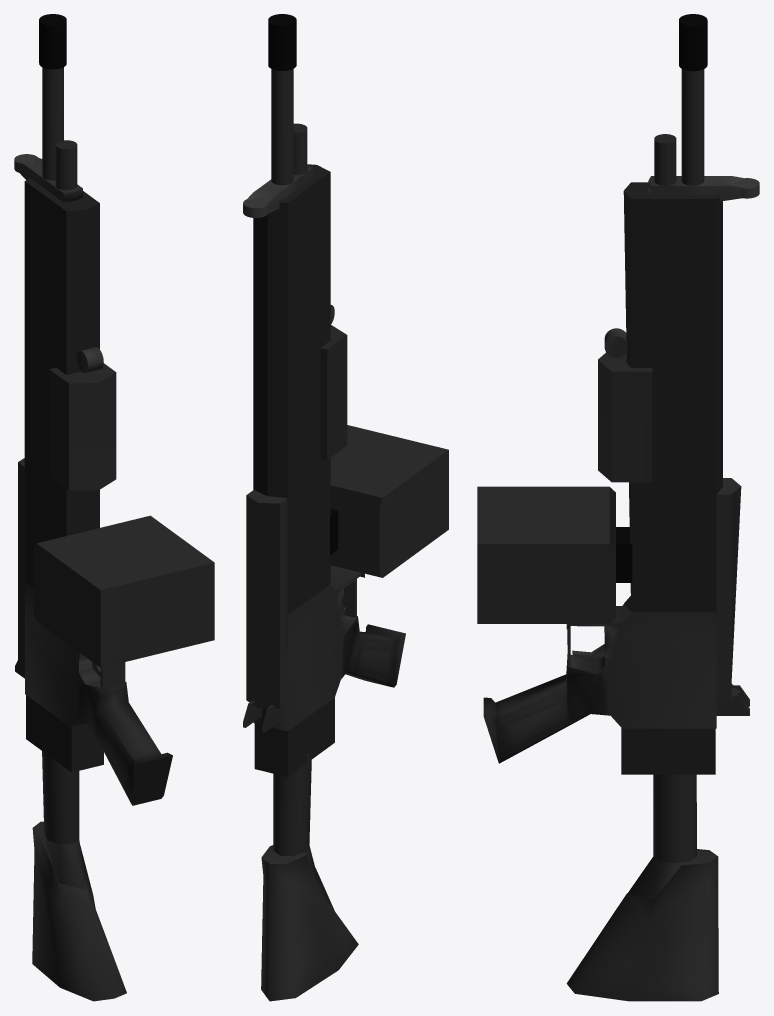
3 renders of one model, left to right at view 1: azimuth 30°, elevation 25°; view 2: azimuth 150°, elevation 25°; view 3: azimuth 270°, elevation 25°, orthographic. The views are drawn at different scales.
Parts seen in each view (by area): view 1: node_9dd0f6f6_31ed_4a20_9721_c0e673ea2e27_mesh0; view 2: node_9dd0f6f6_31ed_4a20_9721_c0e673ea2e27_mesh0; view 3: node_9dd0f6f6_31ed_4a20_9721_c0e673ea2e27_mesh0.
Part boxes in pixels (x1,y1,x2,y2): node_9dd0f6f6_31ed_4a20_9721_c0e673ea2e27_mesh0: (14, 14, 214, 1001); node_9dd0f6f6_31ed_4a20_9721_c0e673ea2e27_mesh0: (243, 14, 448, 1001); node_9dd0f6f6_31ed_4a20_9721_c0e673ea2e27_mesh0: (477, 14, 759, 1001).
Size of the model in its own units: 0.0719 by 0.57 by 0.1498.
